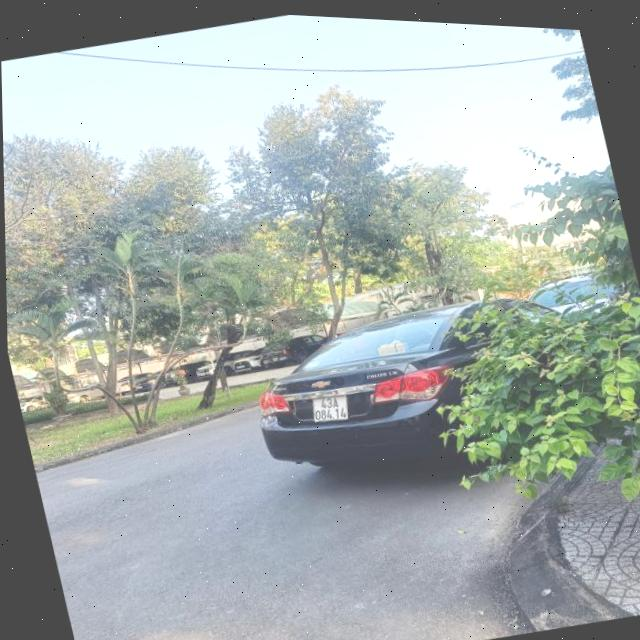car: (236, 278, 496, 506)
plate: (303, 381, 356, 430)
